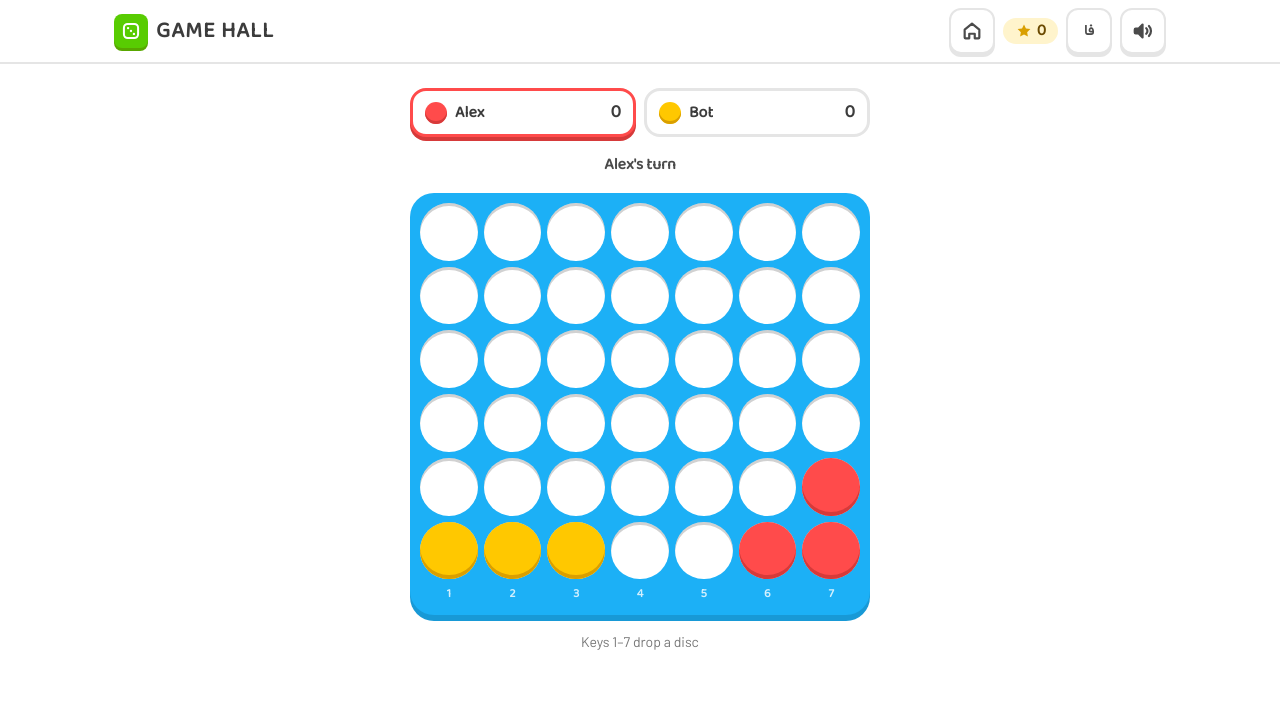
Test: Connect Four — computer opponent › a computer win gives a consolation star, not a win
This screenshot has width=1280, height=701.
Check: the element showing "Alex 0 Bot 0 Alex's turn 1 2 3 4 5 6 7 Keys 1–7 drop a disc" is shown, box [410,88,870,652]
Click the button "5".
click(704, 404)  # box [675,203,732,605]
Wait 1240 ms
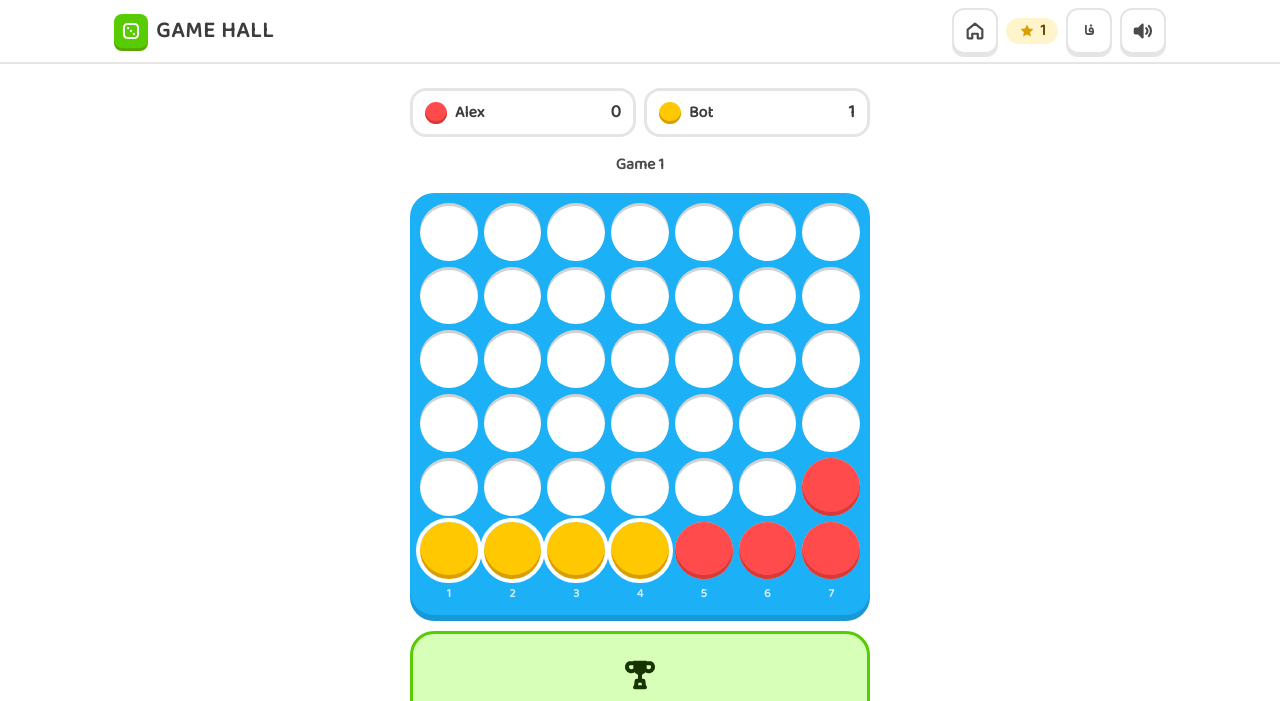
Check: the element named "1 stars" is shown, box [1006,18,1058,44]
